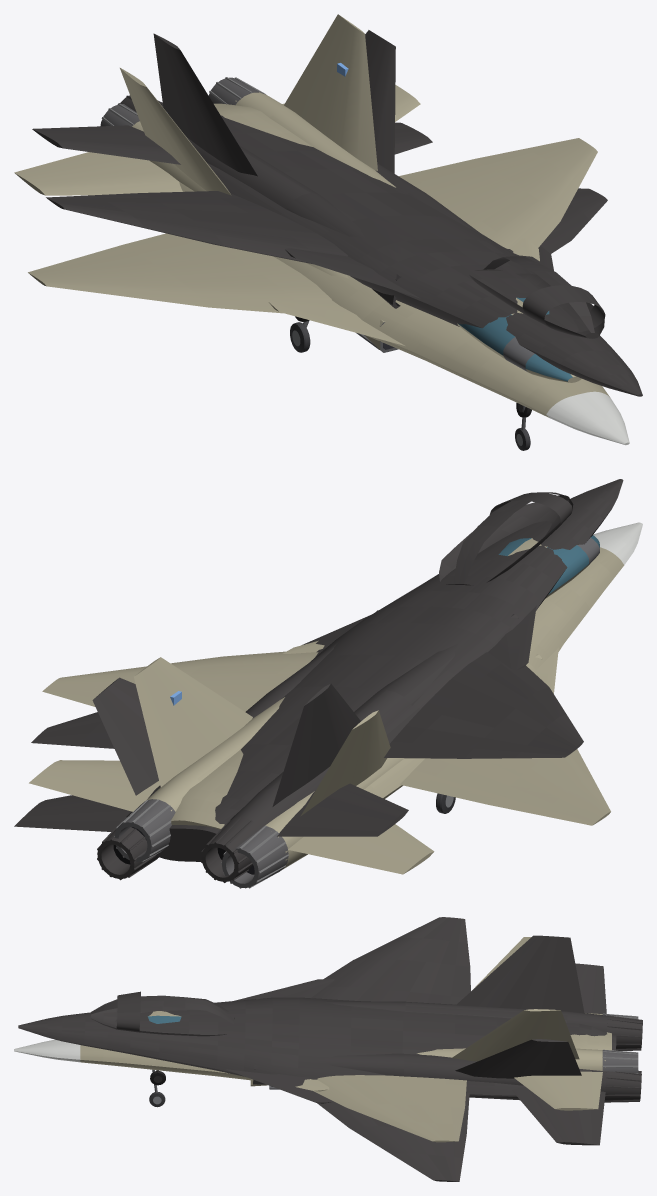
File: stealthFighter__su_57.glb
3 views of the same model, one above another, from view 1: azimuth 30°, elevation 25°; view 2: azimuth 150°, elevation 25°; view 3: azimuth 270°, elevation 25° (orthographic). The views are drawn at different scales.
Parts seen in each view (by area): view 1: Fuselage_Mesh, Wreck; view 2: Wreck, Fuselage_Mesh; view 3: Wreck, Fuselage_Mesh.
Part boxes in pixels (left/top/right/bottom): Fuselage_Mesh: left=14, top=14, right=629, bottom=450; Wreck: left=32, top=30, right=642, bottom=417; Wreck: left=14, top=479, right=623, bottom=882; Fuselage_Mesh: left=29, top=522, right=642, bottom=888; Wreck: left=18, top=917, right=642, bottom=1181; Fuselage_Mesh: left=14, top=937, right=638, bottom=1142.
Size of what is drawn, in the model's own units: 14.38 by 5.28 by 20.29.
